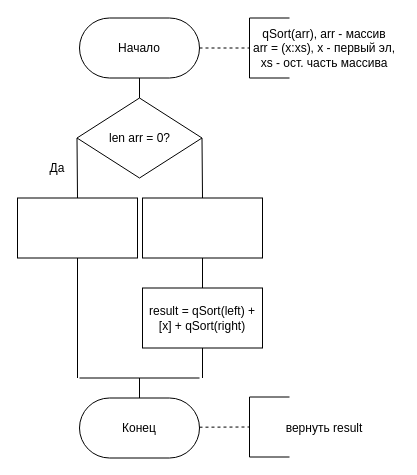
The diagram is 417 pixels wide and 475 high, and some of its shapes have lost their labels. Each missing label, with the box of its shape:
left = все эл-ты arr, меньшие x right = все эл-ты arr, больше x: (142, 197, 262, 258)
result = [ ]: (16, 197, 138, 258)
